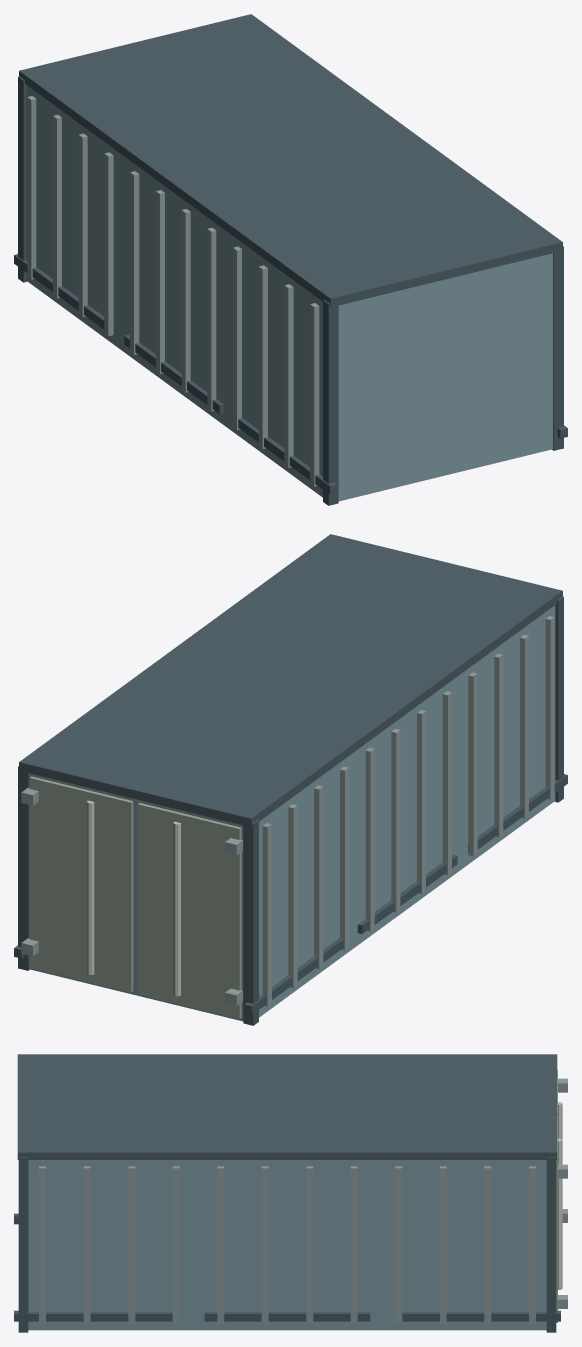
The model's file is DF210_Container_ServiceBlue.glb.
3 renders of one model, top to bottom at view 1: azimuth 30°, elevation 25°; view 2: azimuth 150°, elevation 25°; view 3: azimuth 270°, elevation 25°, orthographic. The views are drawn at different scales.
Parts seen in each view (by area): view 1: Hull, RoofRidge, CornerBar_Rear_-1, CornerBar_Rear_1, Corrugated_-1_3, Corrugated_-1_2, Corrugated_-1_4, Corrugated_-1_6, Corrugated_-1_10, Corrugated_-1_0, Corrugated_-1_7, Corrugated_-1_9 (+8 smaller); view 2: RoofRidge, Hull, DoorLeaf_1, DoorLeaf_-1, CornerBar_Front_-1, CornerBar_Front_1, Corrugated_-1_8, Corrugated_-1_1, Corrugated_-1_5, Corrugated_-1_7, Corrugated_-1_9, Corrugated_-1_2 (+12 smaller); view 3: Hull, RoofRidge, CornerBar_Front_1, CornerBar_Rear_1, SupportRail_1_0, SupportRail_1_-3.0, SupportRail_1_3.0, Corrugated_1_1, Corrugated_1_3, Corrugated_1_4, Corrugated_1_5, Corrugated_1_6 (+8 smaller).
Part boxes in pixels (x1=…): Hull: x1=26, y1=85, x2=552, y2=501; RoofRidge: x1=19, y1=14, x2=562, y2=307; CornerBar_Rear_-1: x1=323, y1=299, x2=338, y2=505; CornerBar_Rear_1: x1=552, y1=246, x2=563, y2=450; Corrugated_-1_3: x1=104, y1=152, x2=113, y2=336; Corrugated_-1_2: x1=78, y1=133, x2=87, y2=317; Corrugated_-1_4: x1=130, y1=171, x2=139, y2=354; Corrugated_-1_6: x1=181, y1=209, x2=190, y2=392; Corrugated_-1_10: x1=284, y1=284, x2=293, y2=467; Corrugated_-1_0: x1=27, y1=96, x2=36, y2=279; Corrugated_-1_7: x1=207, y1=227, x2=216, y2=411; Corrugated_-1_9: x1=258, y1=265, x2=267, y2=448; RoofRidge: x1=19, y1=534, x2=562, y2=827; Hull: x1=29, y1=605, x2=555, y2=1021; DoorLeaf_1: x1=29, y1=776, x2=133, y2=992; DoorLeaf_-1: x1=138, y1=803, x2=241, y2=1018; CornerBar_Front_-1: x1=243, y1=819, x2=258, y2=1025; CornerBar_Front_1: x1=18, y1=766, x2=29, y2=970; Corrugated_-1_8: x1=468, y1=672, x2=477, y2=856; Corrugated_-1_1: x1=288, y1=804, x2=297, y2=987; Corrugated_-1_5: x1=391, y1=729, x2=400, y2=912; Corrugated_-1_7: x1=442, y1=691, x2=451, y2=874; Corrugated_-1_9: x1=494, y1=653, x2=503, y2=837; Corrugated_-1_2: x1=314, y1=785, x2=323, y2=968; Hull: x1=28, y1=1160, x2=546, y2=1330; RoofRidge: x1=17, y1=1054, x2=557, y2=1159; CornerBar_Front_1: x1=546, y1=1157, x2=556, y2=1332; CornerBar_Rear_1: x1=18, y1=1157, x2=28, y2=1332; SupportRail_1_0: x1=204, y1=1312, x2=370, y2=1321; SupportRail_1_-3.0: x1=402, y1=1310, x2=560, y2=1321; SupportRail_1_3.0: x1=14, y1=1310, x2=172, y2=1321; Corrugated_1_1: x1=484, y1=1166, x2=491, y2=1323; Corrugated_1_3: x1=395, y1=1166, x2=402, y2=1323; Corrugated_1_4: x1=350, y1=1166, x2=357, y2=1323; Corrugated_1_5: x1=306, y1=1166, x2=313, y2=1323; Corrugated_1_6: x1=261, y1=1166, x2=268, y2=1323.
Size of the model in its own units: 3.78 by 3.11 by 8.71.
